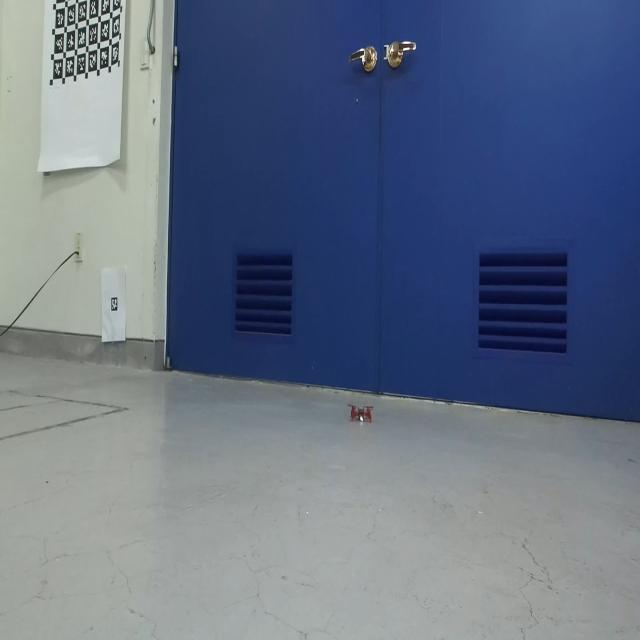crazyflie: (347, 402, 374, 425)
